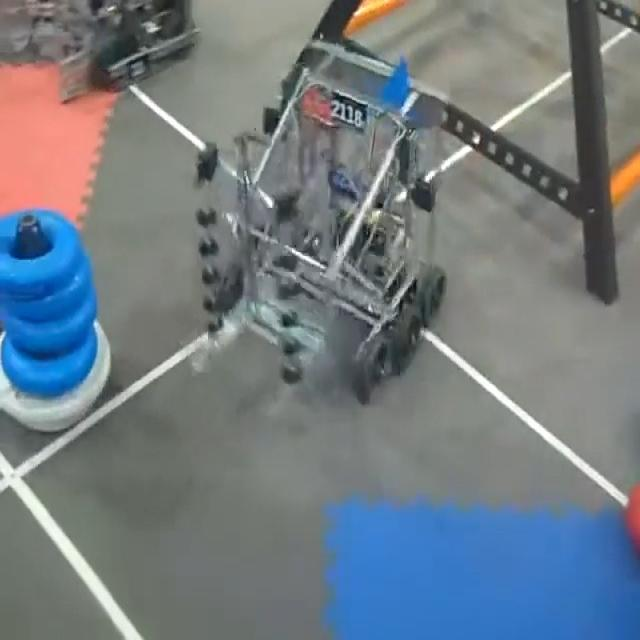Blue-Ring: (1, 210, 85, 301), (2, 322, 98, 396), (5, 258, 94, 321), (6, 295, 96, 355)
